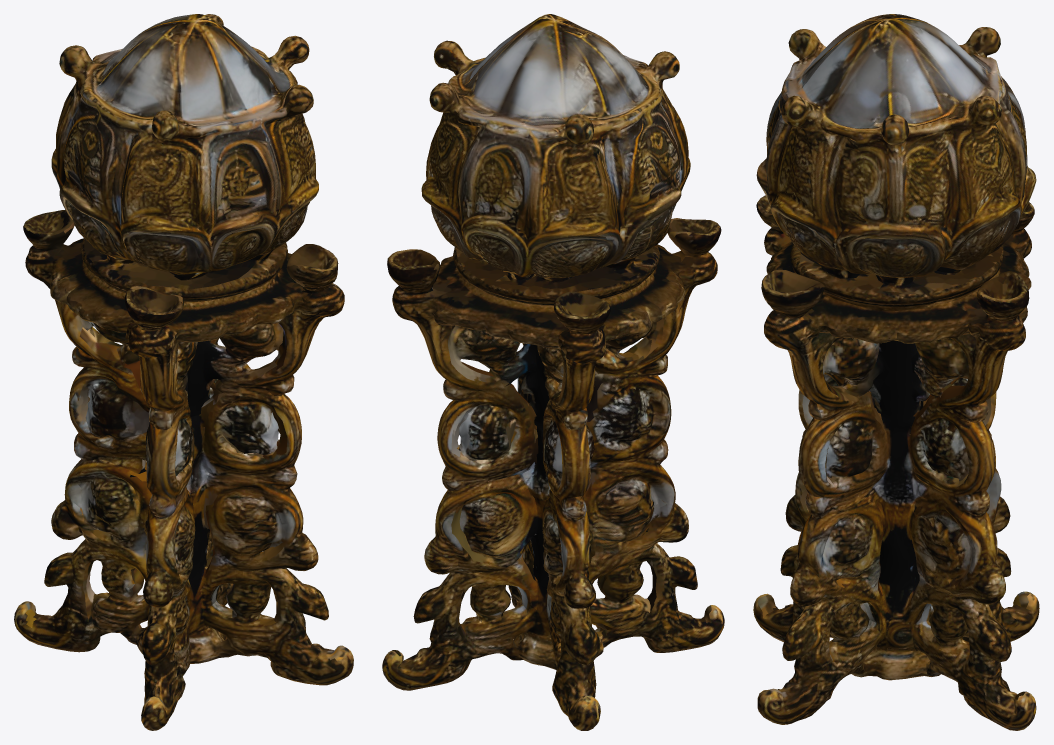
The picture shows the model from 3 angles, left to right: view 1: azimuth 30°, elevation 25°; view 2: azimuth 150°, elevation 25°; view 3: azimuth 270°, elevation 25°; orthographic projection. The views are drawn at different scales.
Parts seen in each view (by area): view 1: textured_mesh; view 2: textured_mesh; view 3: textured_mesh.
Part boxes in pixels (left/top/right/bottom): textured_mesh: left=14, top=14, right=353, bottom=730; textured_mesh: left=382, top=14, right=724, bottom=730; textured_mesh: left=753, top=14, right=1039, bottom=730.
Size of the model in its own units: 0.759 by 2 by 0.775.
1 material, 1 textured.
